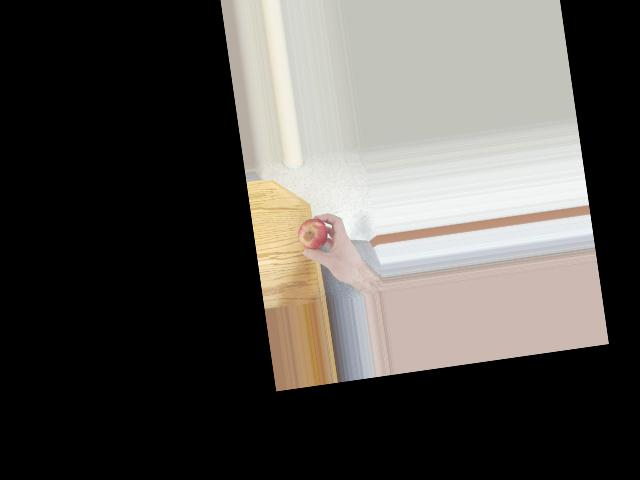apple: (295, 215, 332, 256)
